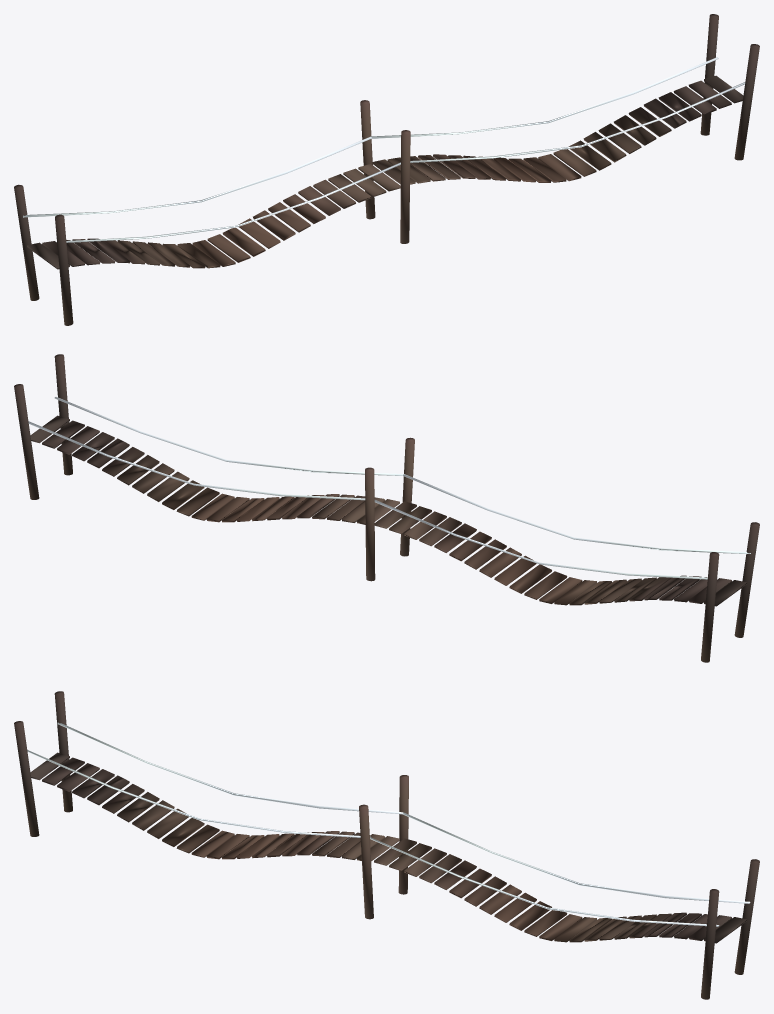
Rendered from WoodenRopeWavyBridge.glb.
3 renders of one model, top to bottom at view 1: azimuth 30°, elevation 25°; view 2: azimuth 150°, elevation 25°; view 3: azimuth 330°, elevation 25°, orthographic.
Parts seen in each view (by area): view 1: WoodenRopeWavyBridge; view 2: WoodenRopeWavyBridge; view 3: WoodenRopeWavyBridge.
Boxes of the visible parts, x1,y1,x2,y2 form: WoodenRopeWavyBridge: (14,14,759,325); WoodenRopeWavyBridge: (14,354,759,662); WoodenRopeWavyBridge: (14,691,759,999).
Bounding box in the file's own units: 17.83 × 2.74 × 2.07.
Materials: 1 (1 with a texture image).
